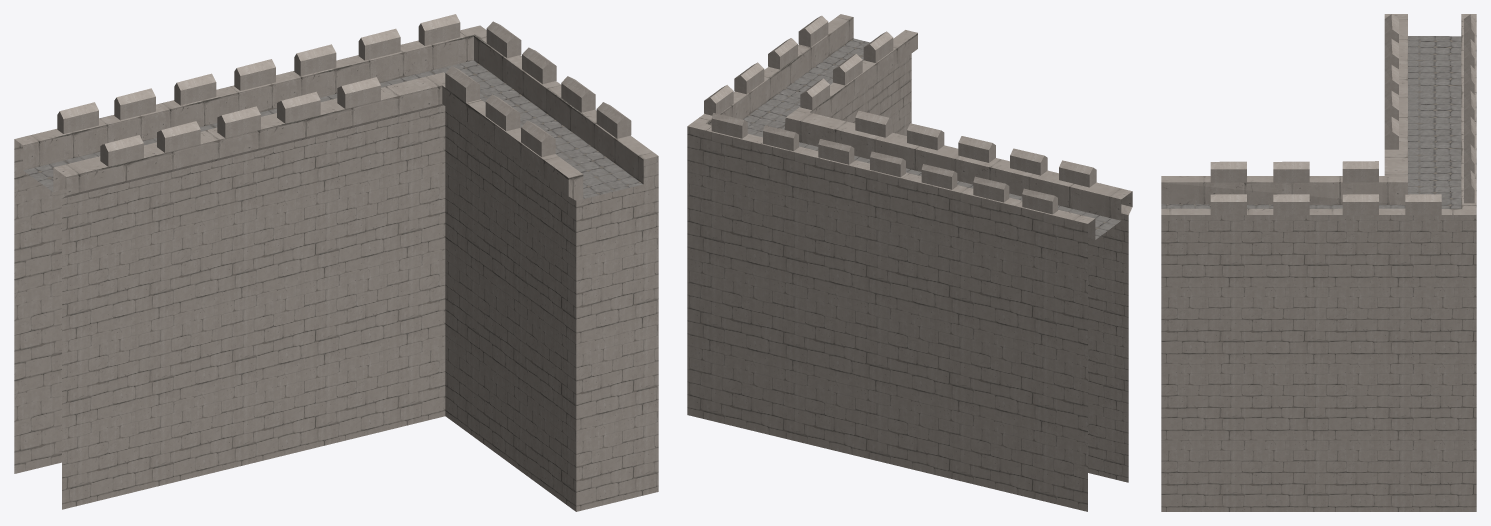
File: CastleWall_C.fbx
The picture shows the model from 3 angles, left to right: view 1: azimuth 30°, elevation 25°; view 2: azimuth 150°, elevation 25°; view 3: azimuth 270°, elevation 25°; orthographic projection. The views are drawn at different scales.
Visible parts, largest first — view 1: CastleWall_C; view 2: CastleWall_C; view 3: CastleWall_C.
Part boxes in pixels (<box>): CastleWall_C: <box>14,14,658,511</box>; CastleWall_C: <box>687,14,1132,511</box>; CastleWall_C: <box>1161,14,1476,511</box>.
Bounding box in the file's own units: 6633 × 4839 × 4393.
2 materials, 2 textured.
